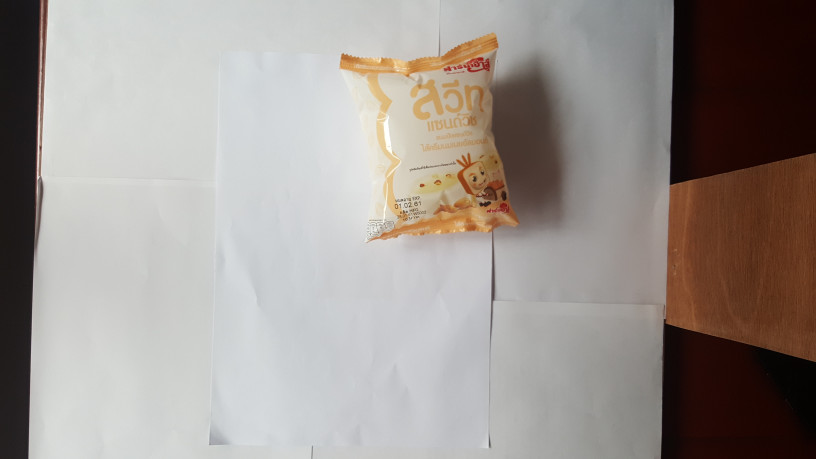farmhouse-sweetsandwich-almond: (336, 29, 525, 252)
